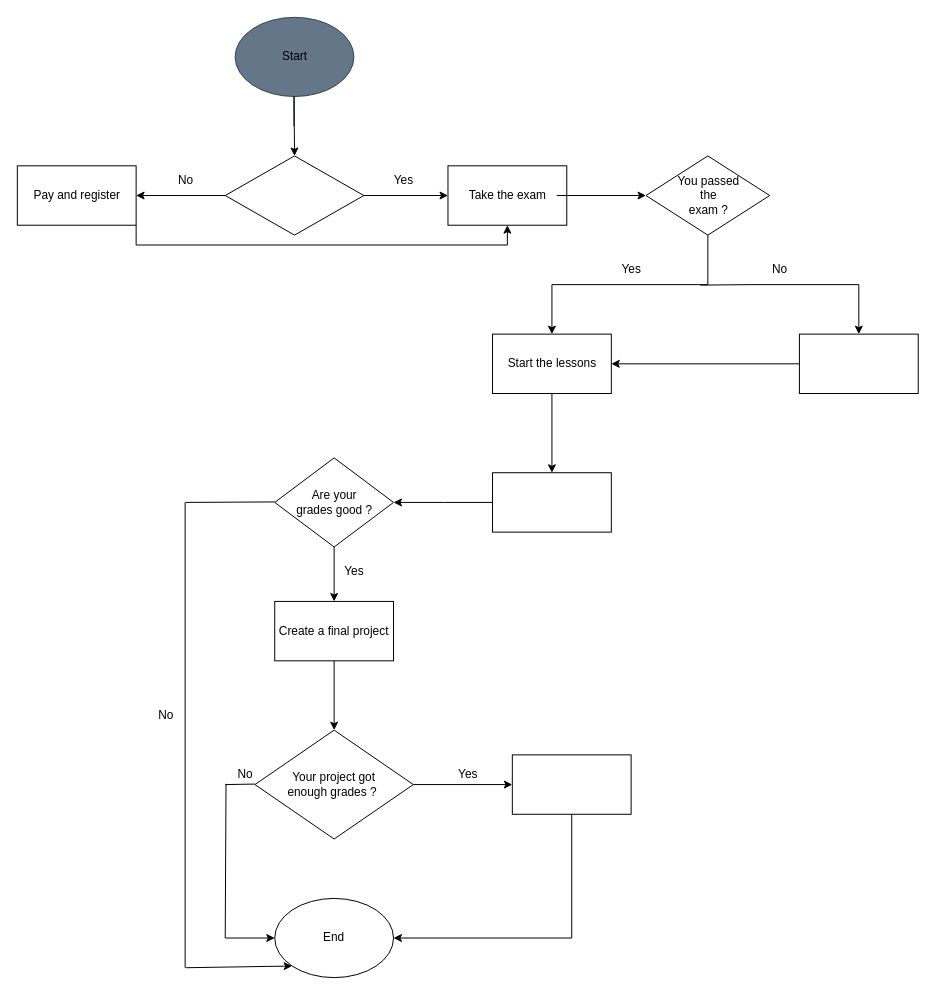
This 936x995 diagram has some shape labels left out. Here are the shapes that lost their labels. From the top down, the centre of each, then its label:
[294,195]: Are you registered ?
[858,363]: Study the EL
[551,502]: Enroll in classes
[571,784]: Get the diploma
